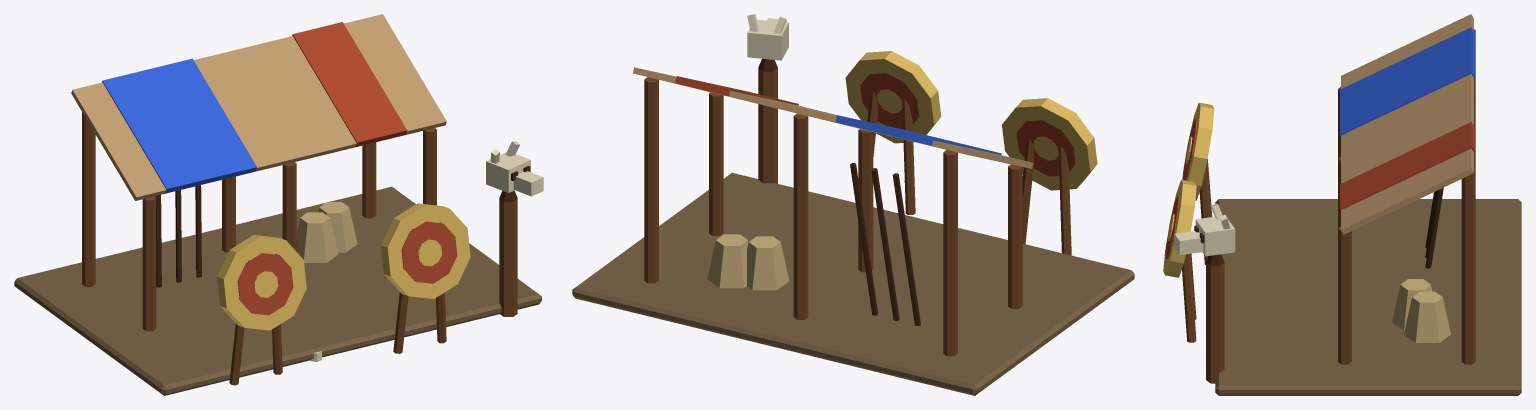
The model's file is Range.glb.
3 renders of one model, left to right at view 1: azimuth 30°, elevation 25°; view 2: azimuth 150°, elevation 25°; view 3: azimuth 270°, elevation 25°, orthographic. The views are drawn at different scales.
Visible parts, largest first — view 1: Range; view 2: Range; view 3: Range.
Boxes of the visible parts, x1=… form: Range: x1=14, y1=14, x2=543, y2=395; Range: x1=572, y1=14, x2=1134, y2=395; Range: x1=1163, y1=14, x2=1521, y2=395.
Bounding box in the file's own units: 3.6 × 1.9 × 2.88.
